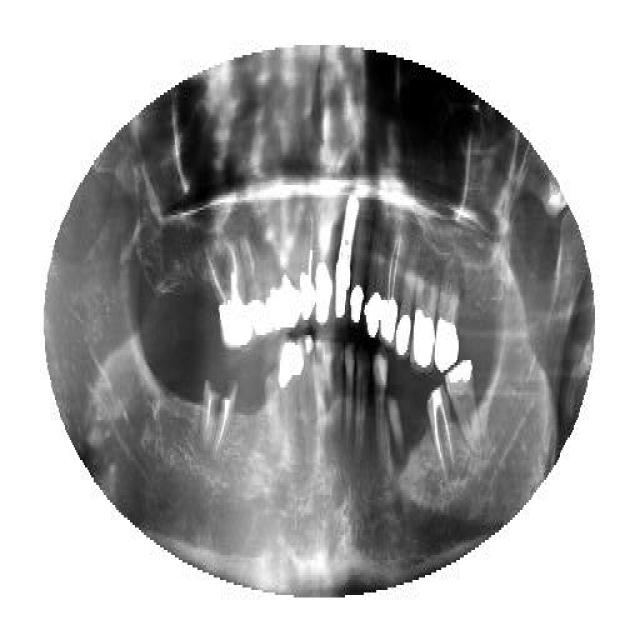Cavity: (201, 372, 239, 452), (385, 380, 406, 468)
Fillings: (239, 233, 276, 335), (445, 357, 479, 445), (410, 262, 438, 368), (434, 263, 460, 375), (393, 250, 418, 362), (278, 338, 304, 430), (364, 225, 385, 337), (349, 213, 369, 325), (276, 265, 300, 335), (315, 247, 333, 325)
Implant: (202, 238, 252, 350), (332, 193, 358, 325), (426, 385, 454, 483), (379, 232, 401, 350), (300, 210, 316, 328)
